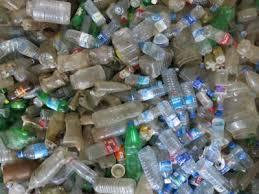Plastic bottle: (160, 69, 190, 112), (155, 129, 188, 164), (122, 122, 142, 174), (91, 174, 138, 194), (196, 161, 228, 190), (140, 150, 162, 191), (202, 24, 238, 46), (209, 107, 228, 146), (104, 101, 150, 116), (62, 27, 98, 46), (86, 134, 118, 154), (140, 42, 173, 60), (21, 140, 52, 159)
